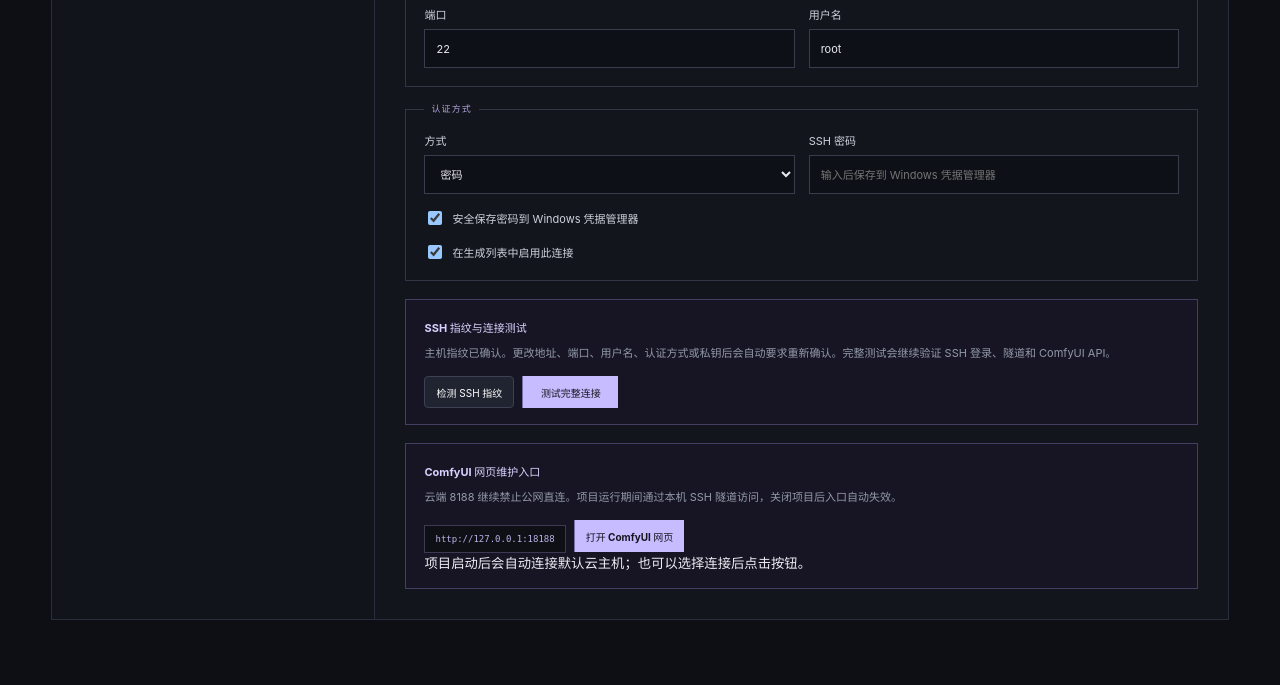
Test: opens the selected remote ComfyUI through the managed local tunnel
(page scrolled)
Click the button "打开 ComfyUI 网页". click: (629, 536)
box: [574, 520, 684, 552]
(page scrolled)
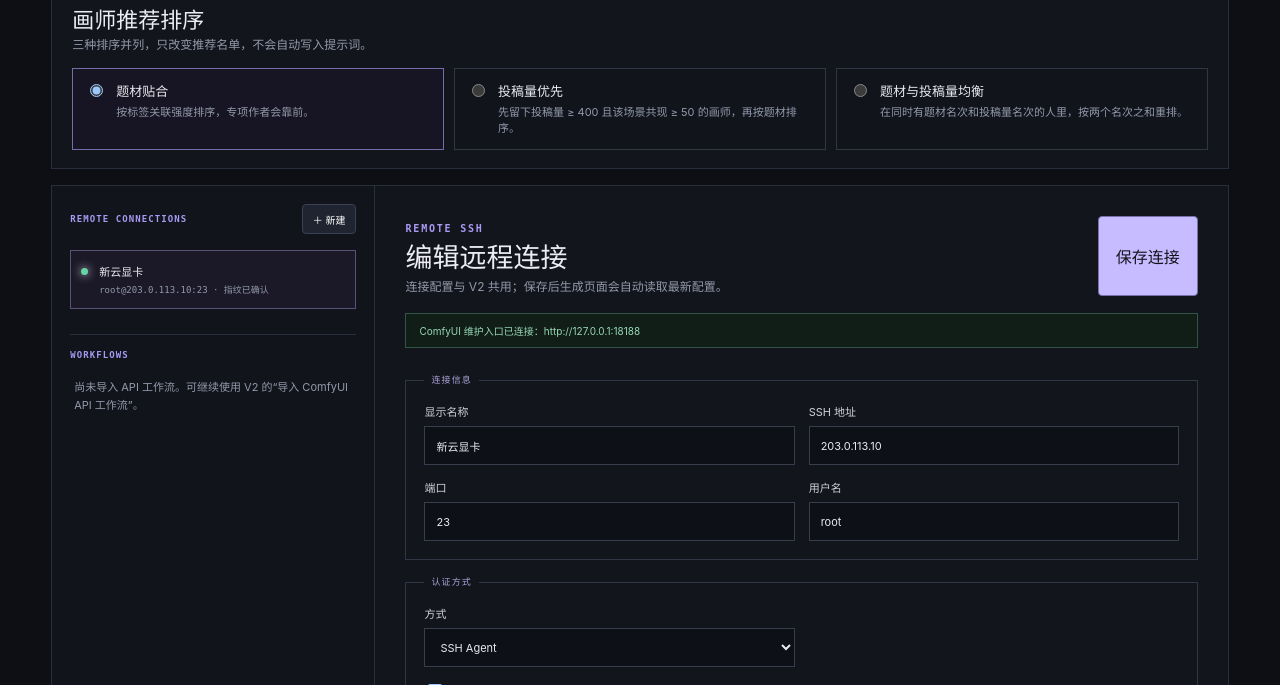
Expected: the text "ComfyUI 维护入口已连接：http://127.0.0.1:18188" is shown, [406, 313, 1198, 348]
